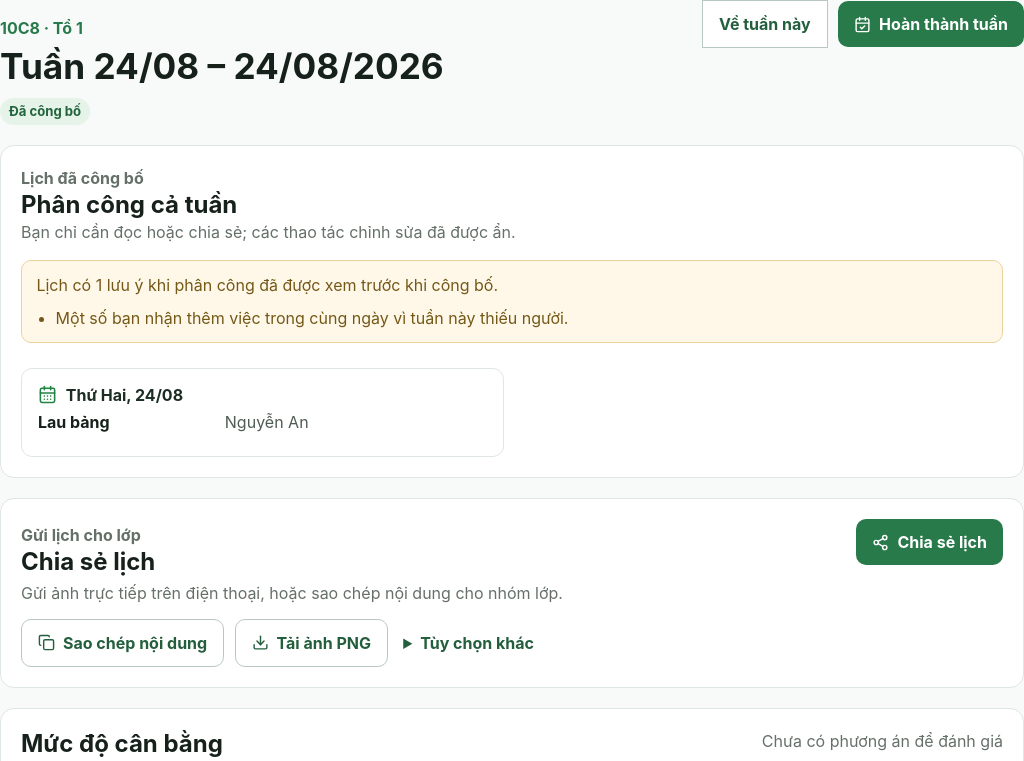
WeekEditorPage › offers copy and export actions as soon as a week is published
Expected: the element named "Chia sẻ lịch với lớp" is shown, [0,498,1023,688]
Expected: the button "Sao chép nội dung" is shown, [21,619,224,667]
Click the button "Hoàn thành tuần". click: click(931, 24)
box: [838,1,1023,47]
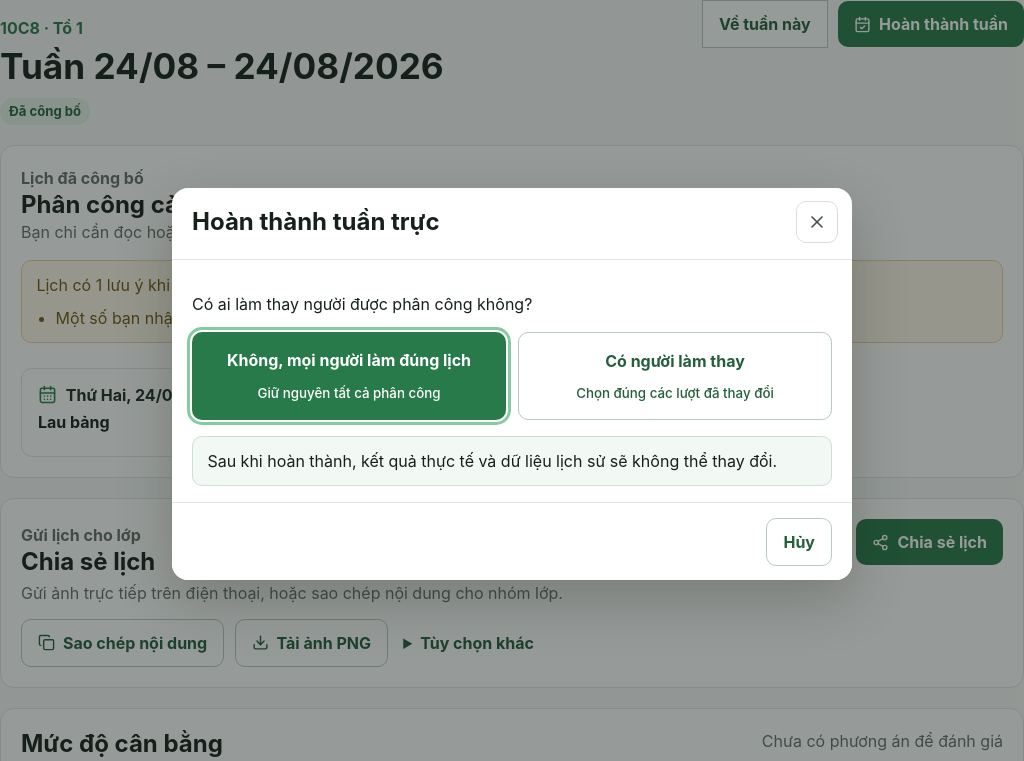
Expected: the text "Có ai làm thay người được phân công không?" is shown, [192,294,532,314]
Expected: the button "Không, mọi người làm đúng lịch Giữ nguyên tất cả phân công" is shown, [192,332,506,420]
Click the button "Có người làm thay Chọn đúng các lượt đã thay đổi". click: click(675, 361)
box: [518,332,832,420]
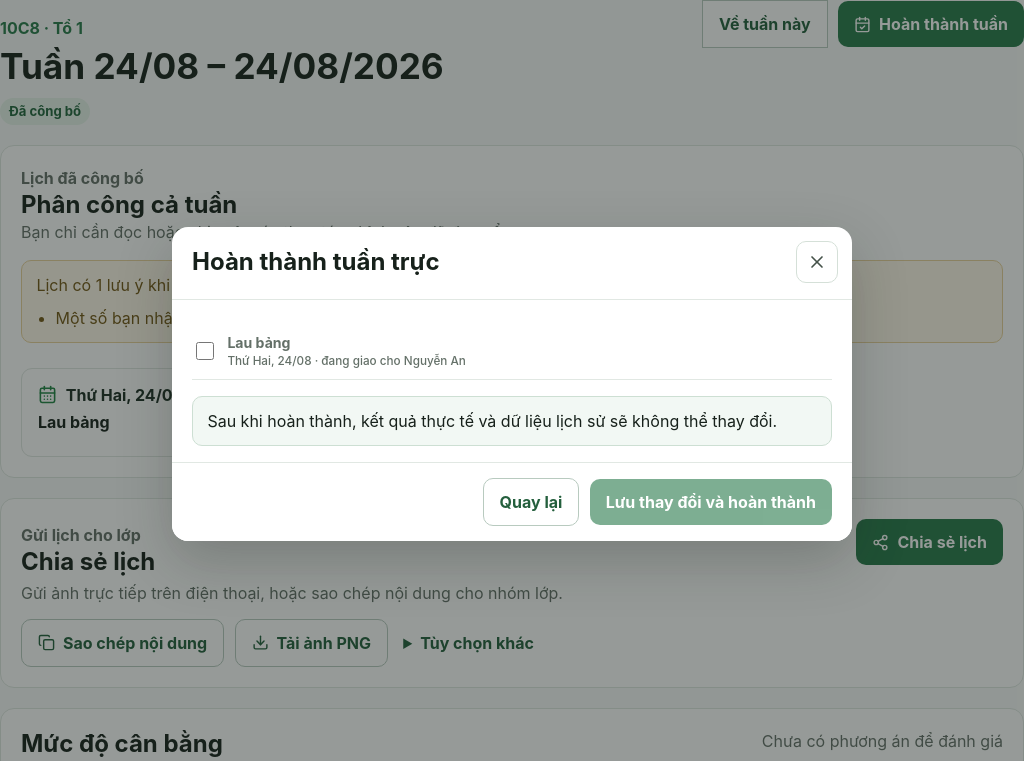
Expected: the text "Thứ Hai, 24/08 · đang giao cho Nguyễn An" is shown, [227,353,466,371]
